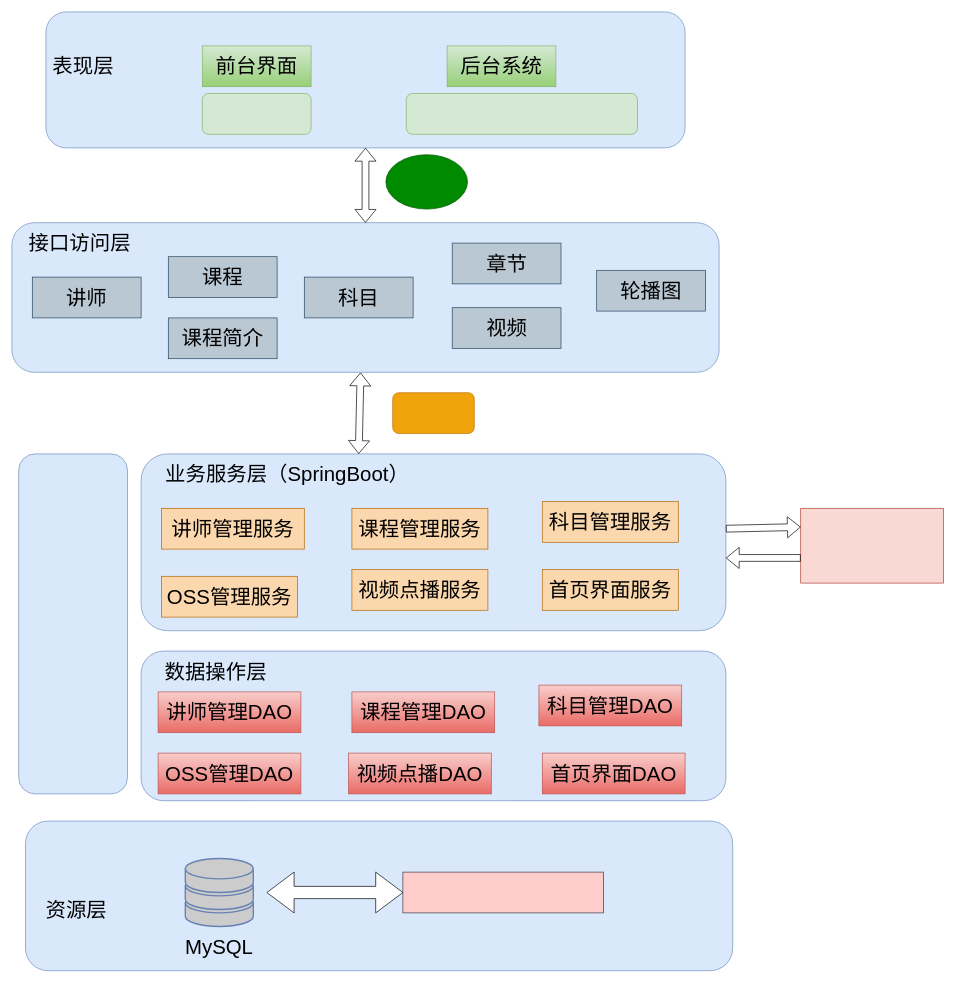
Some shapes in this 955 by 983 pixel diagram are drawn without their labels. The shapes that lost their labels are listed below. From the top down, each one's centre as x and y in pixels, then its label:
[256,113]: Nuxt.js
[522,113]: vue-element-template
[426,181]: Nginx
[433,413]: Nacos
[872,545]: Open Feign
[73,623]: 实体层
[503,892]: MyBatis-Plus
